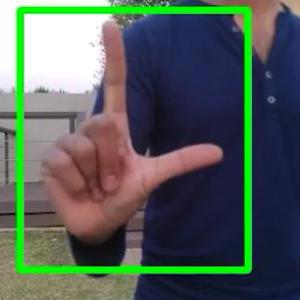land_hand: (32, 9, 235, 252)
